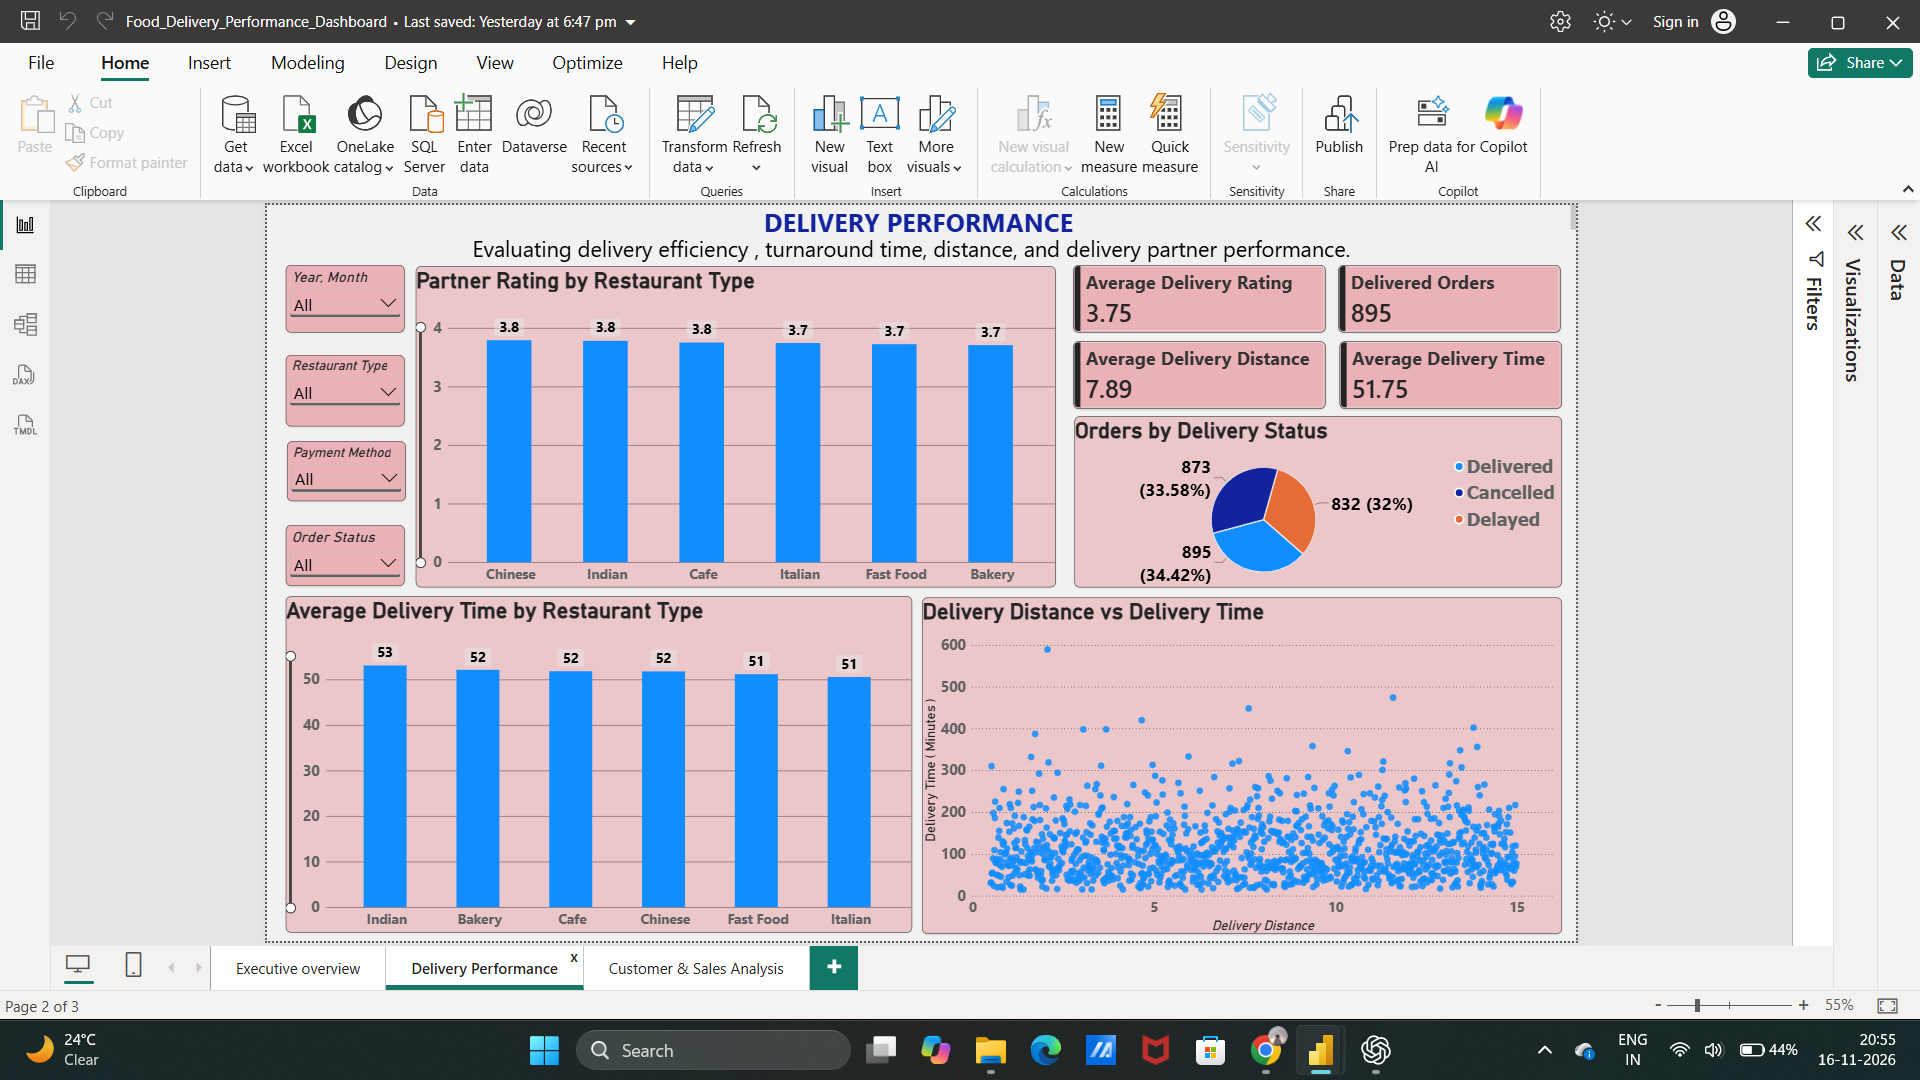

Layout of this report page (visuals, bound fields, positions):
{"tool":"powerbi","page":{"name":"Delivery Performance","canvas":[1920,1080],"ordinal":1},"visuals":[{"type":"textbox","box":[0,0,1865.4,42.2],"z":0},{"type":"columnChart","title":"Partner Rating by Restaurant Type","fields":{"Category":["daily_food_delivery_orders.restaurant_type"],"Y":["daily_food_delivery_orders.Average Delivery Rating"]},"box":[218.3,89.9,939.1,471.4],"z":8000},{"type":"scatterChart","title":"Delivery Distance vs Delivery Time","fields":{"X":["daily_food_delivery_orders.delivery_distance_km"],"Y":["Sum(daily_food_delivery_orders.delivery_time_minutes)"]},"box":[961.1,576,939.1,493.4],"z":9000},{"type":"clusteredColumnChart","title":"Average Delivery Time by Restaurant Type","fields":{"Category":["daily_food_delivery_orders.restaurant_type"],"Y":["daily_food_delivery_orders.Average Delivery Time"]},"box":[27.5,574.1,919,493.4],"z":10000},{"type":"slicer","fields":{"Values":["daily_food_delivery_orders.order_date.Variation.Date Hierarchy.Year","daily_food_delivery_orders.order_date.Variation.Date Hierarchy.Month"]},"box":[27.5,88,174.3,99],"z":10001},{"type":"slicer","fields":{"Values":["daily_food_delivery_orders.restaurant_type"]},"box":[27.5,220.1,174.3,104.6],"z":10002},{"type":"slicer","fields":{"Values":["daily_food_delivery_orders.payment_method"]},"box":[29.3,346.7,174.3,88],"z":10003},{"type":"slicer","fields":{"Values":["daily_food_delivery_orders.order_status"]},"box":[27.5,469.6,174.3,89.9],"z":10004},{"type":"cardVisual","fields":{"Data":["daily_food_delivery_orders.Average Delivery Time"]},"box":[1573.8,199.9,326.5,99],"z":10005},{"type":"cardVisual","fields":{"Data":["daily_food_delivery_orders.Average Delivery Distance"]},"box":[1183.1,199.9,370.5,99],"z":10006},{"type":"cardVisual","fields":{"Data":["daily_food_delivery_orders.Average Delivery Rating"]},"box":[1183.1,88,370.5,99],"z":10007},{"type":"textbox","box":[12.8,42.2,1865.4,45.9],"z":10008},{"type":"cardVisual","fields":{"Data":["daily_food_delivery_orders.Delivered Orders"]},"box":[1572,88,326.5,99],"z":10009},{"type":"pieChart","title":"Orders by Delivery Status","fields":{"Category":["daily_food_delivery_orders.order_status"],"Y":["daily_food_delivery_orders.Total orders"]},"box":[1184.9,310,715.4,251.3],"z":10010}]}

Visuals, with their boxes on the page's 1920x1080 design canvas (x1, y1, x2, y2). These are canvas units, not pixel positions in the 1920x1080 screenshot, which may show the page scaled, cropped or inside an application window:
textbox: box=[0, 0, 1865, 42]
"Partner Rating by Restaurant Type" columnChart: box=[218, 90, 1157, 561]
"Delivery Distance vs Delivery Time" scatterChart: box=[961, 576, 1900, 1069]
"Average Delivery Time by Restaurant Type" clusteredColumnChart: box=[28, 574, 946, 1068]
slicer - daily_food_delivery_orders.order_date.Variation.Date Hierarchy.Year x daily_food_delivery_orders.order_date.Variation.Date Hierarchy.Month: box=[28, 88, 202, 187]
slicer - daily_food_delivery_orders.restaurant_type: box=[28, 220, 202, 325]
slicer - daily_food_delivery_orders.payment_method: box=[29, 347, 204, 435]
slicer - daily_food_delivery_orders.order_status: box=[28, 470, 202, 560]
cardVisual - daily_food_delivery_orders.Average Delivery Time: box=[1574, 200, 1900, 299]
cardVisual - daily_food_delivery_orders.Average Delivery Distance: box=[1183, 200, 1554, 299]
cardVisual - daily_food_delivery_orders.Average Delivery Rating: box=[1183, 88, 1554, 187]
textbox: box=[13, 42, 1878, 88]
cardVisual - daily_food_delivery_orders.Delivered Orders: box=[1572, 88, 1898, 187]
"Orders by Delivery Status" pieChart: box=[1185, 310, 1900, 561]
